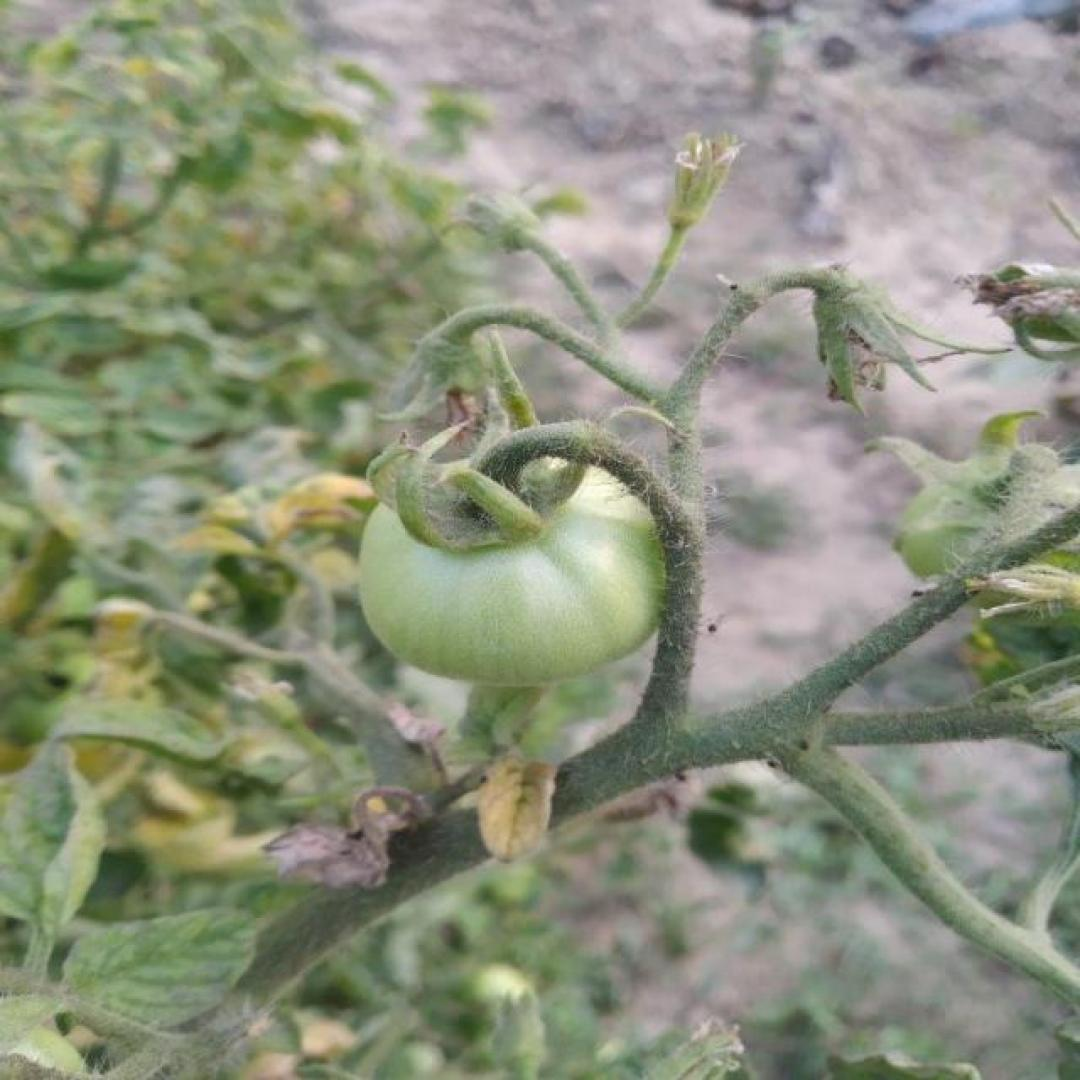mentah: (354, 452, 684, 685)
